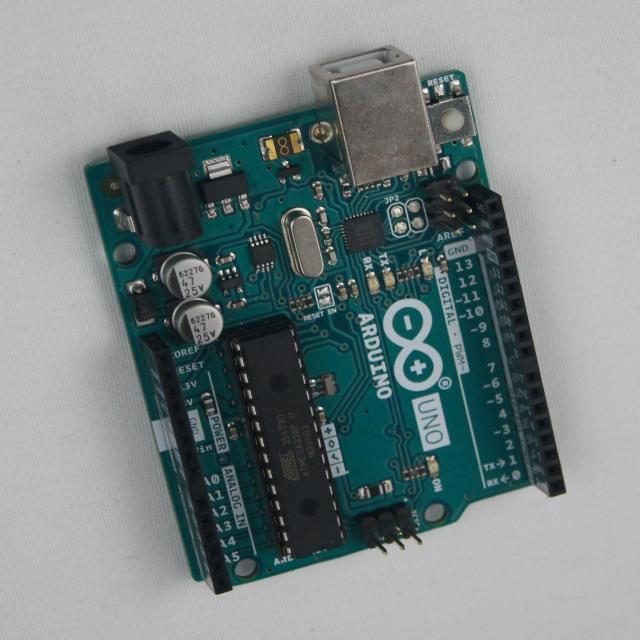Arduino Uno -Green-: (86, 48, 566, 594)
